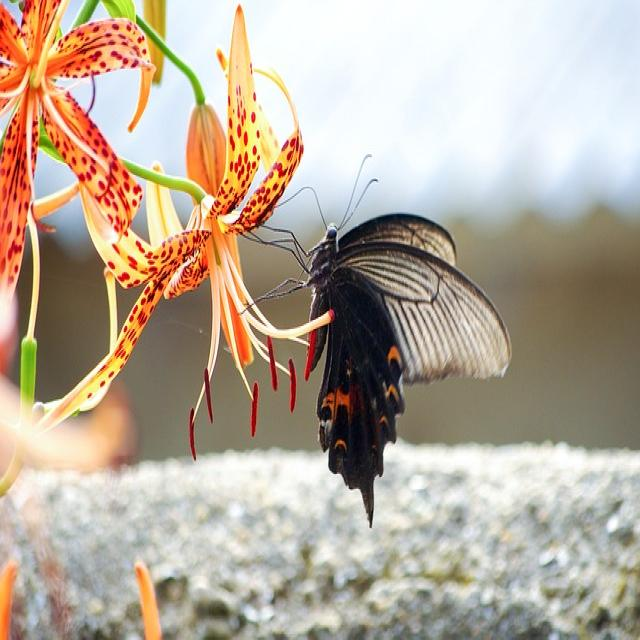butterfly: (246, 214, 512, 525)
